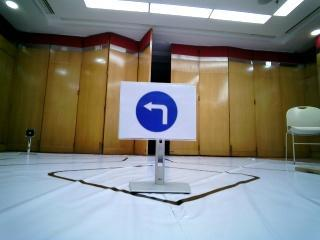left: (120, 81, 194, 139)
